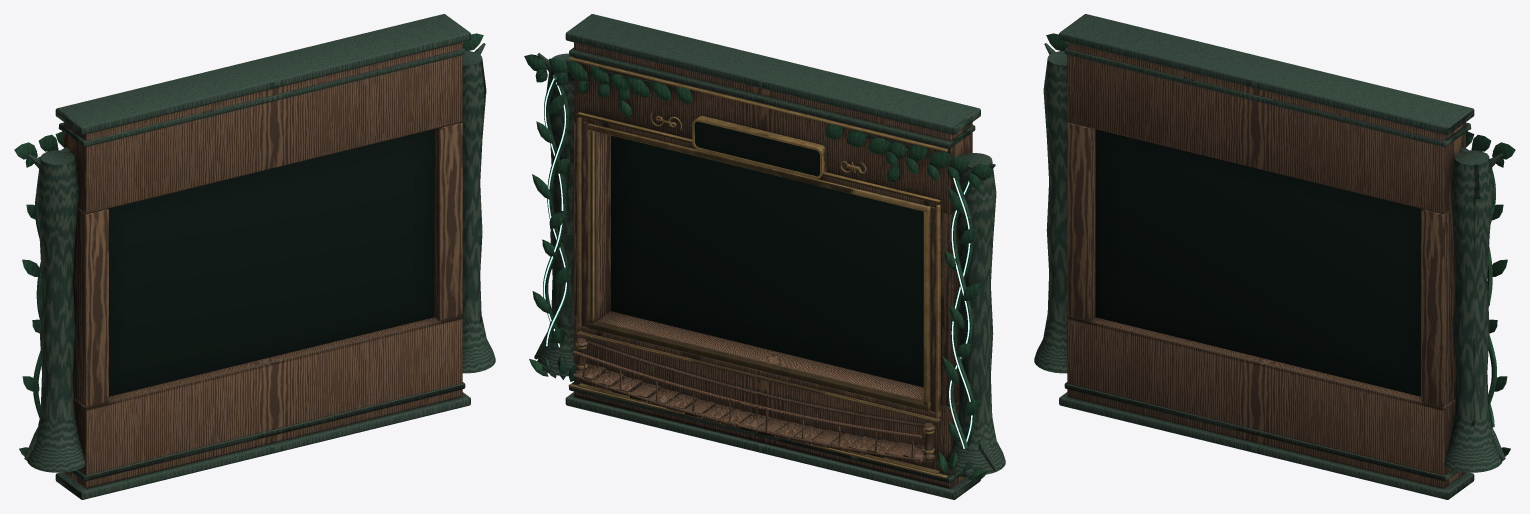
3 renders of one model, left to right at view 1: azimuth 30°, elevation 25°; view 2: azimuth 150°, elevation 25°; view 3: azimuth 330°, elevation 25°, orthographic.
Parts seen in each view (by area): view 1: Warm_rainforest_heartwood, Forest_dark_inset, Ancient_forest_bark, Canopy_foliage; view 2: Forest_dark_inset, Warm_rainforest_heartwood, Ancient_forest_bark, Dawn_bronze, Canopy_foliage, Living_vine_glow; view 3: Warm_rainforest_heartwood, Forest_dark_inset, Ancient_forest_bark, Canopy_foliage.
Part boxes in pixels (box(x1,y1,x2,y2)): Warm_rainforest_heartwood: box(64, 42, 462, 488); Forest_dark_inset: box(108, 129, 434, 396); Ancient_forest_bark: box(24, 14, 495, 499); Canopy_foliage: box(14, 33, 483, 456); Forest_dark_inset: box(610, 121, 923, 387); Warm_rainforest_heartwood: box(573, 42, 972, 488); Ancient_forest_bark: box(534, 14, 1005, 499); Dawn_bronze: box(568, 57, 947, 478); Canopy_foliage: box(524, 54, 993, 480); Living_vine_glow: box(543, 76, 972, 448); Warm_rainforest_heartwood: box(1067, 42, 1465, 488); Forest_dark_inset: box(1095, 129, 1421, 396); Ancient_forest_bark: box(1034, 14, 1505, 499); Canopy_foliage: box(1046, 33, 1515, 456).
Size of the model in its own units: 11.58 by 8.8 by 1.71.
6 materials, 5 textured.
